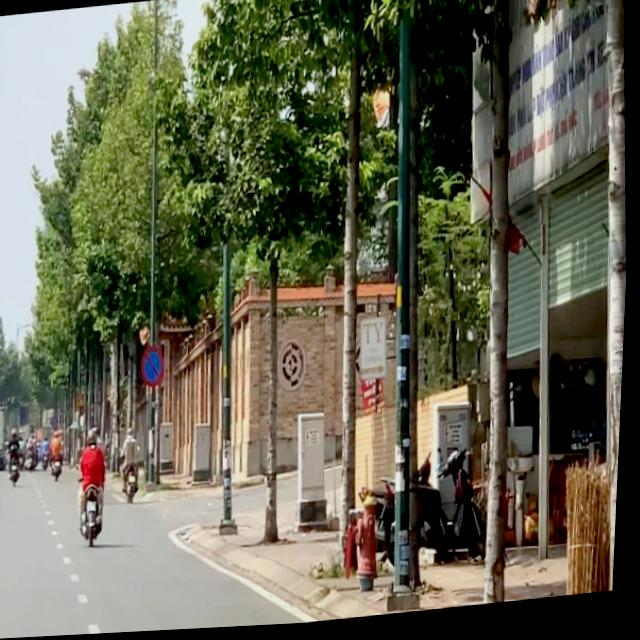Cam do xe: (143, 346, 170, 391)
cho ngoat nguy hiem vong ben phai: (79, 392, 89, 409)
